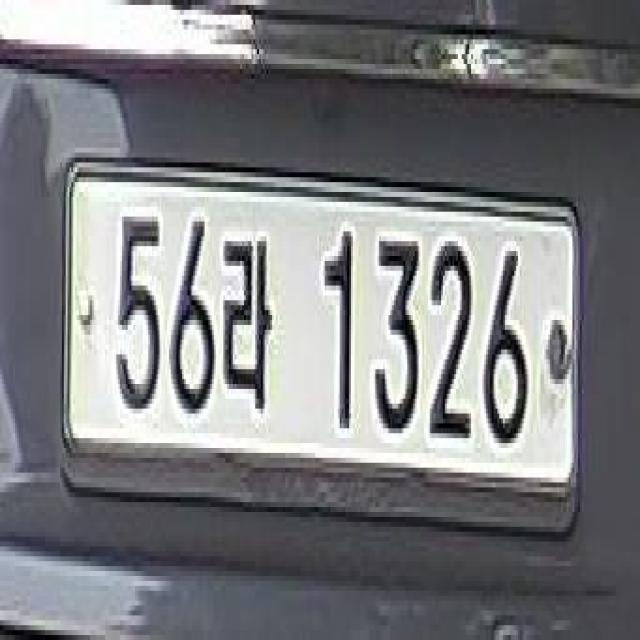illegal_plate: (69, 155, 587, 554)
